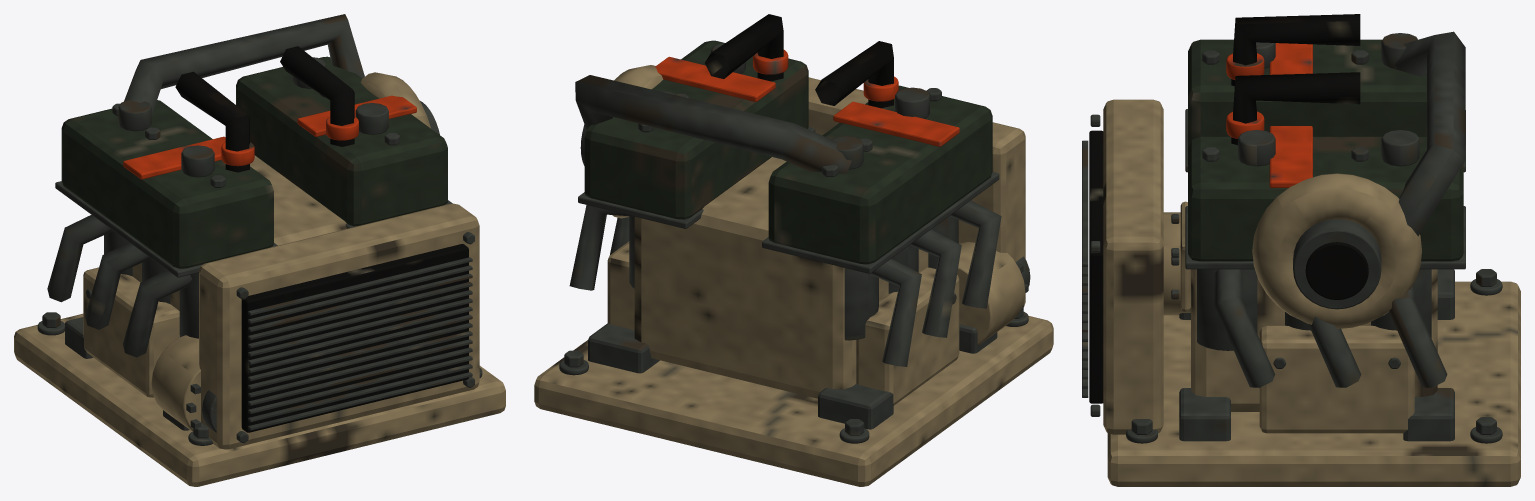
The model's file is 38_race_engine.glb.
3 renders of one model, left to right at view 1: azimuth 30°, elevation 25°; view 2: azimuth 150°, elevation 25°; view 3: azimuth 270°, elevation 25°, orthographic. The views are drawn at different scales.
Visible parts, largest first — view 1: Fixed_Body; view 2: Fixed_Body; view 3: Fixed_Body.
Boxes of the visible parts, x1,y1,x2,y2 form: Fixed_Body: (14, 14, 505, 486); Fixed_Body: (534, 14, 1053, 486); Fixed_Body: (1082, 14, 1520, 486).
Bounding box in the file's own units: 1.47 × 1.3 × 1.45.
5 materials, 5 textured.
